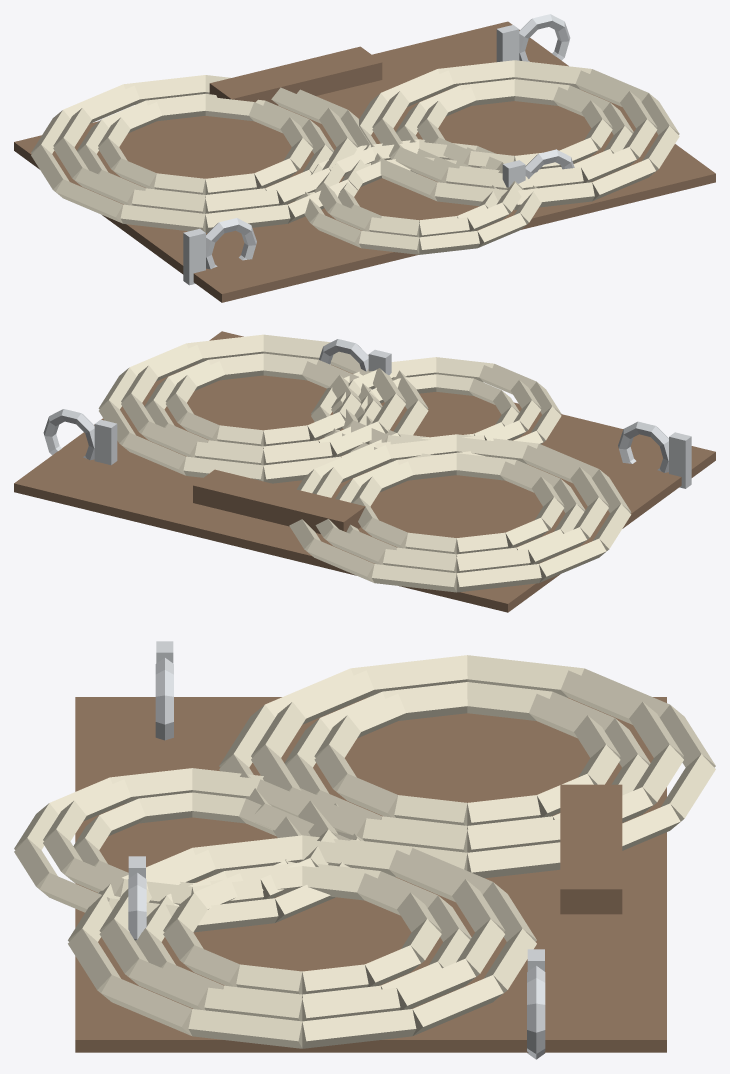
File: hot-air-balloon-festival-balloon-handling-line-set-d5aa9255__38480.glb
3 renders of one model, top to bottom at view 1: azimuth 30°, elevation 25°; view 2: azimuth 150°, elevation 25°; view 3: azimuth 270°, elevation 25°, orthographic. The views are drawn at different scales.
Visible parts, largest first — view 1: balloon-handling-line-set-rope, balloon-handling-line-set-leather, balloon-handling-line-set-steel; view 2: balloon-handling-line-set-rope, balloon-handling-line-set-leather, balloon-handling-line-set-steel; view 3: balloon-handling-line-set-rope, balloon-handling-line-set-leather, balloon-handling-line-set-steel.
Boxes of the visible parts, x1,y1,x2,y2 form: balloon-handling-line-set-rope: (31, 60, 679, 254); balloon-handling-line-set-leather: (14, 21, 715, 302); balloon-handling-line-set-steel: (183, 14, 574, 285); balloon-handling-line-set-rope: (98, 334, 631, 592); balloon-handling-line-set-leather: (14, 331, 715, 612); balloon-handling-line-set-steel: (43, 339, 691, 488); balloon-handling-line-set-rope: (14, 655, 715, 1048); balloon-handling-line-set-leather: (75, 697, 666, 1052); balloon-handling-line-set-steel: (128, 641, 545, 1059).
Bounding box in the file's own units: 1.3 × 0.1313 × 1.02.
